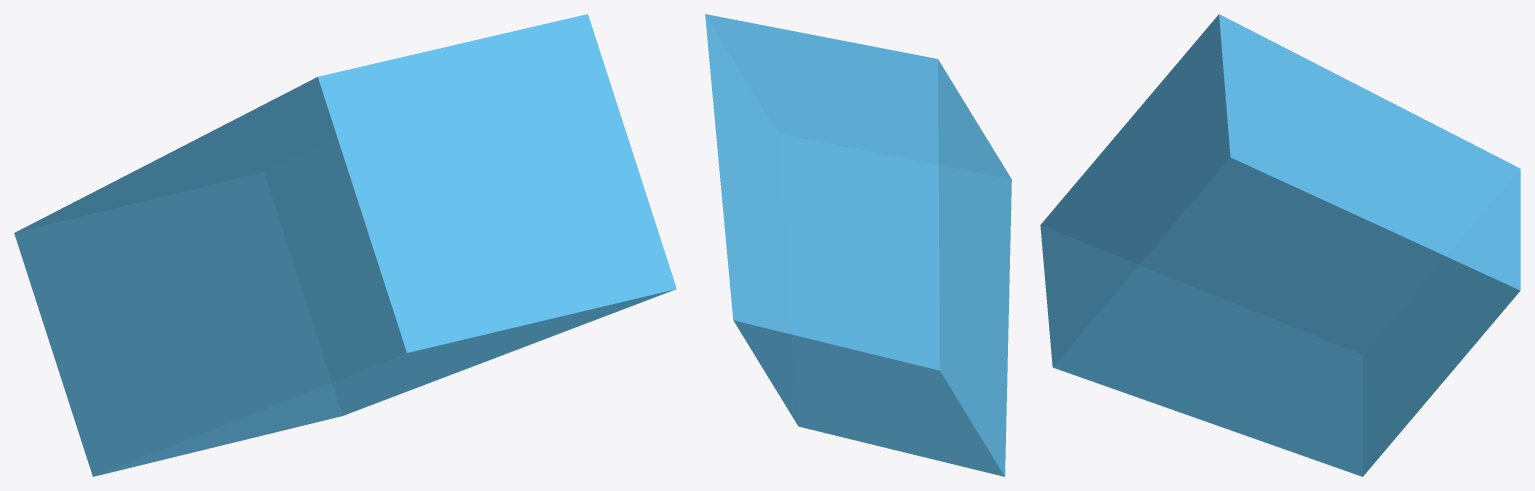
Rendered from Event_420604493_HBrechit_32.fbx.
3 renders of one model, left to right at view 1: azimuth 30°, elevation 25°; view 2: azimuth 150°, elevation 25°; view 3: azimuth 270°, elevation 25°, orthographic. The views are drawn at different scales.
Visible parts, largest first — view 1: Model; view 2: Model; view 3: Model.
Boxes of the visible parts, bbox=[...] form: Model: bbox=[14, 14, 676, 476]; Model: bbox=[705, 14, 1011, 476]; Model: bbox=[1040, 14, 1520, 476].
Bounding box in the file's own units: 0.768 × 0.7109 × 0.7443.
